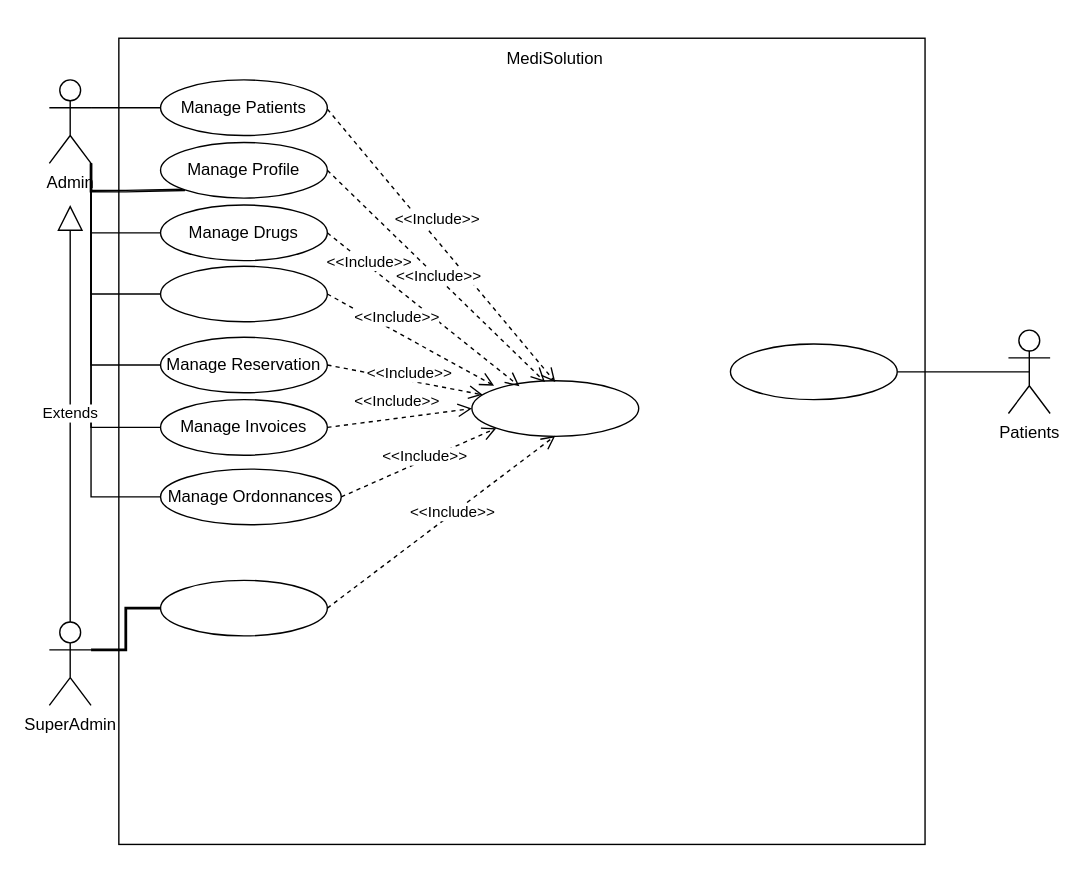
This 1083x869 diagram has some shape labels left out. Each missing label, with the centre of its shape:
"Login" belongs at point (555, 407).
"Make Reservations" belongs at point (813, 371).
"Manage Admins" belongs at point (243, 607).
"Manage Services" belongs at point (243, 293).
